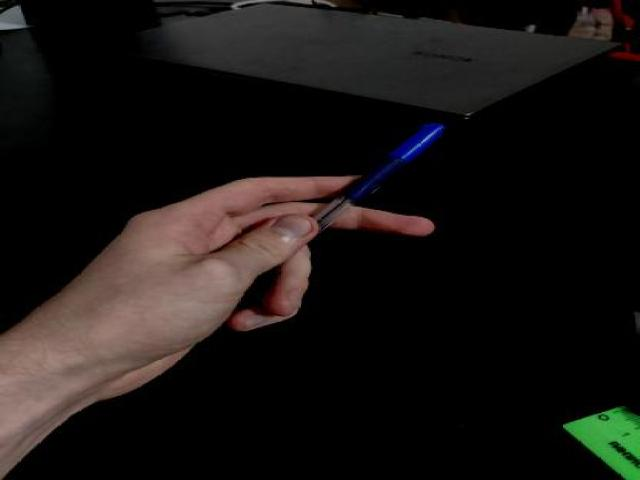PEN: (301, 103, 454, 241)
